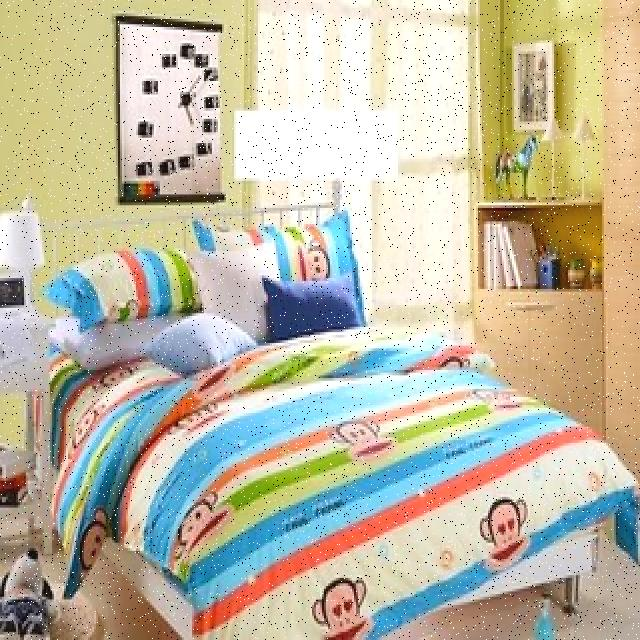bed: (57, 212, 598, 631)
